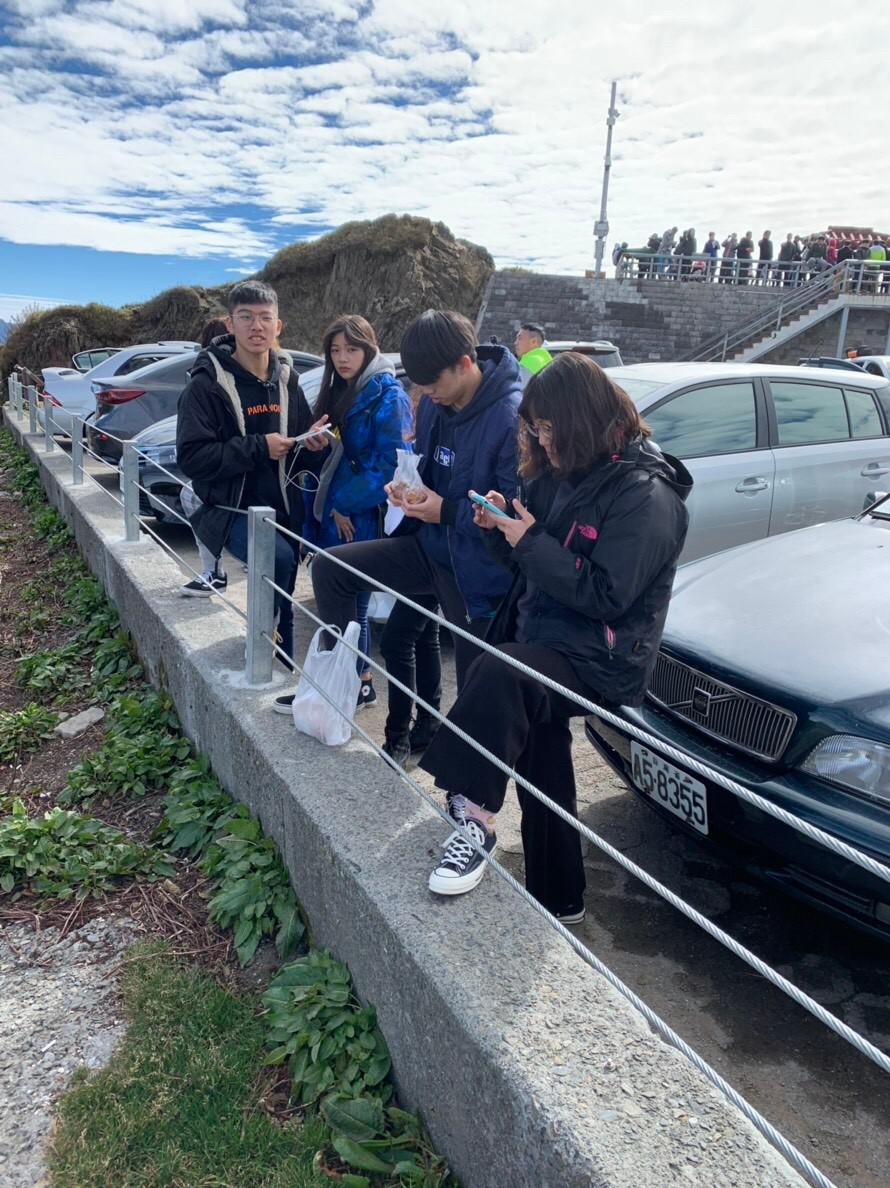people: (495, 364, 668, 926), (399, 296, 527, 694), (204, 279, 306, 677), (319, 307, 408, 558), (795, 237, 814, 286), (757, 228, 774, 281), (642, 226, 661, 273), (659, 222, 674, 275), (683, 228, 695, 286), (851, 234, 870, 269), (870, 243, 887, 281), (723, 232, 734, 290), (783, 232, 793, 290), (742, 226, 751, 290), (706, 234, 714, 285), (840, 239, 853, 264)
